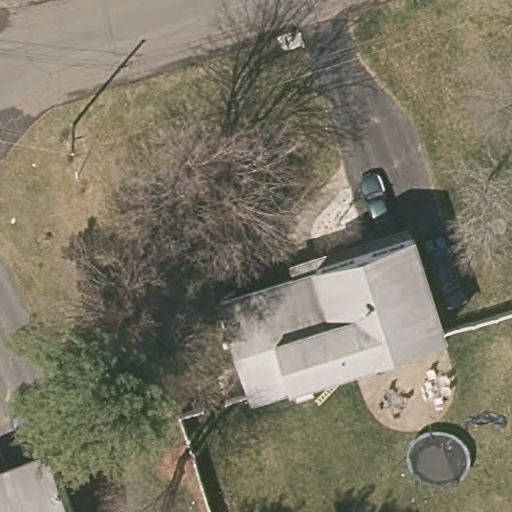DT: (62, 146, 79, 162)
